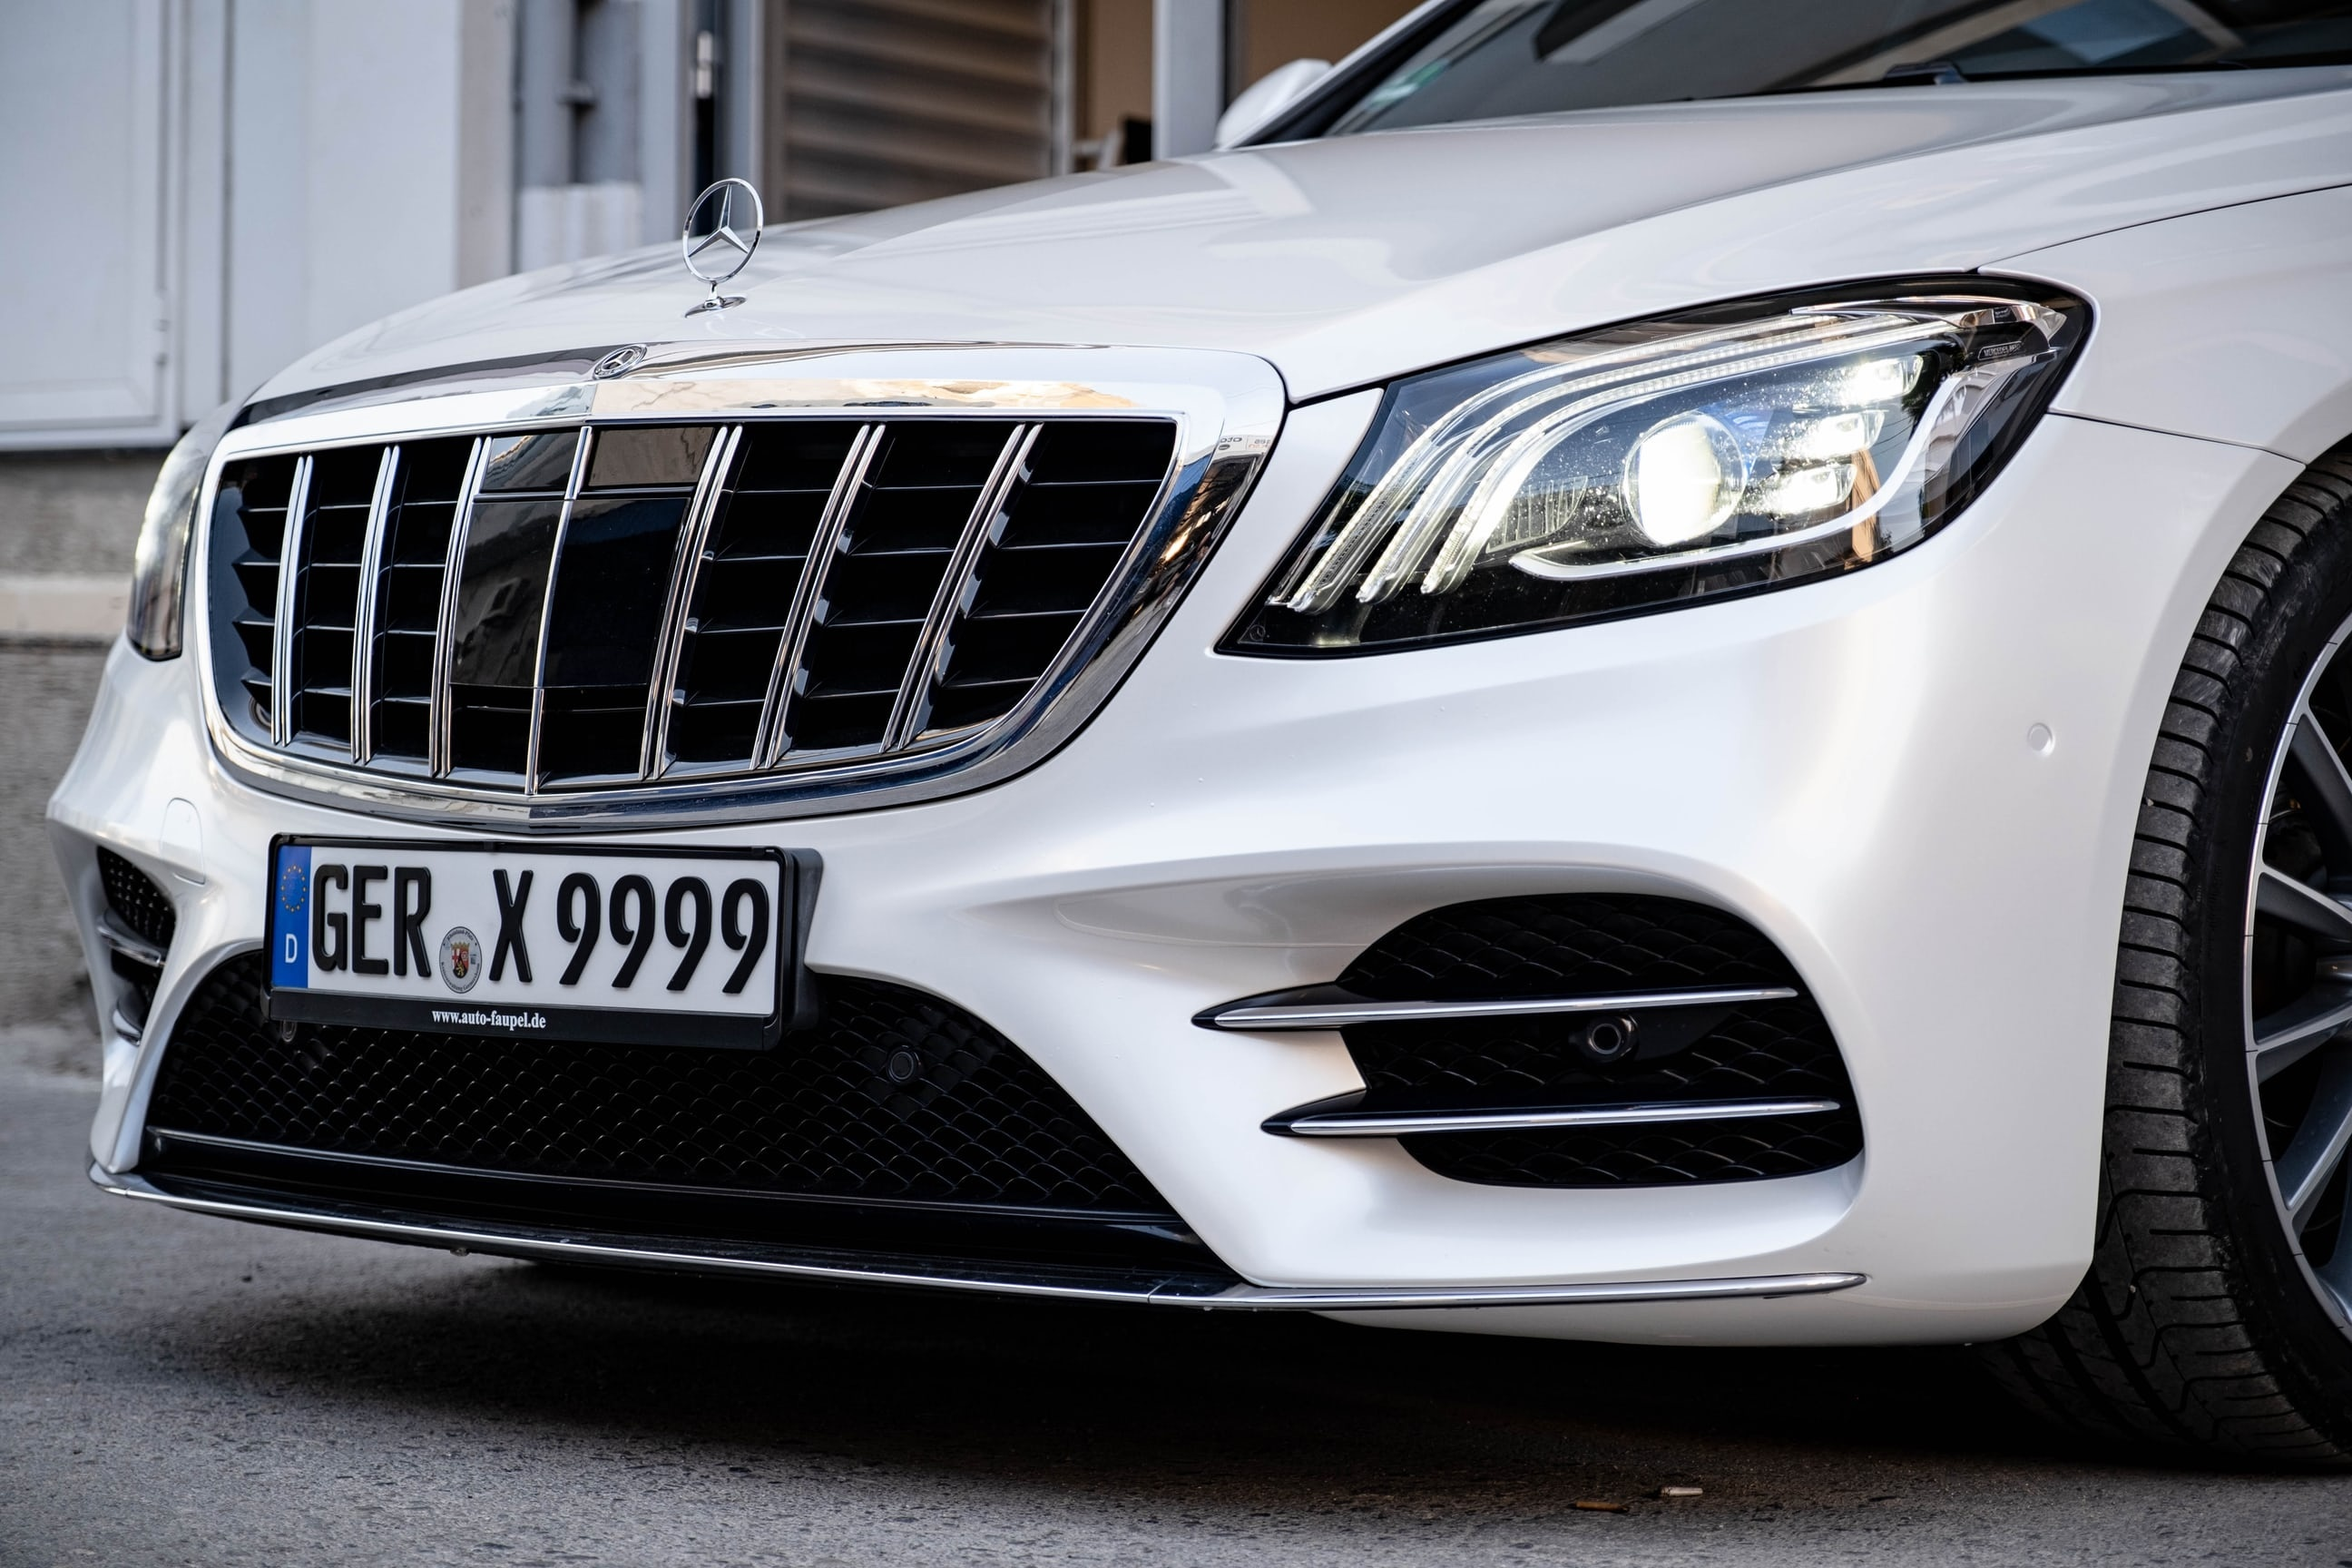plaka: (261, 838, 789, 1024)
